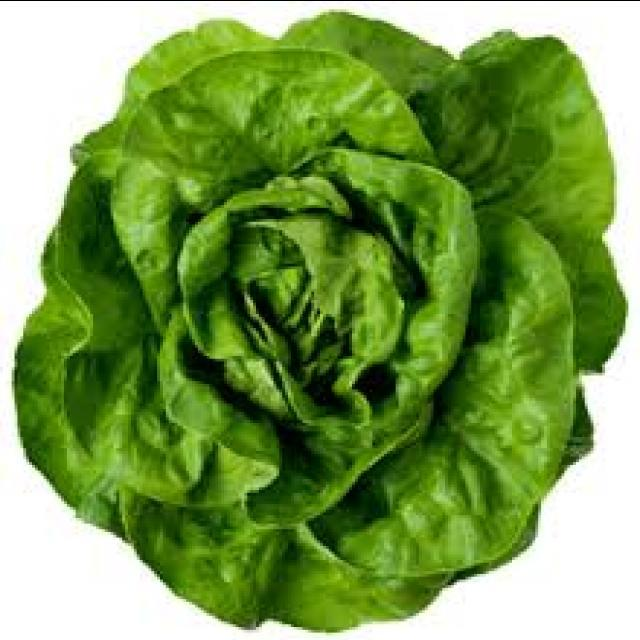Lettuce: (10, 7, 630, 632)
